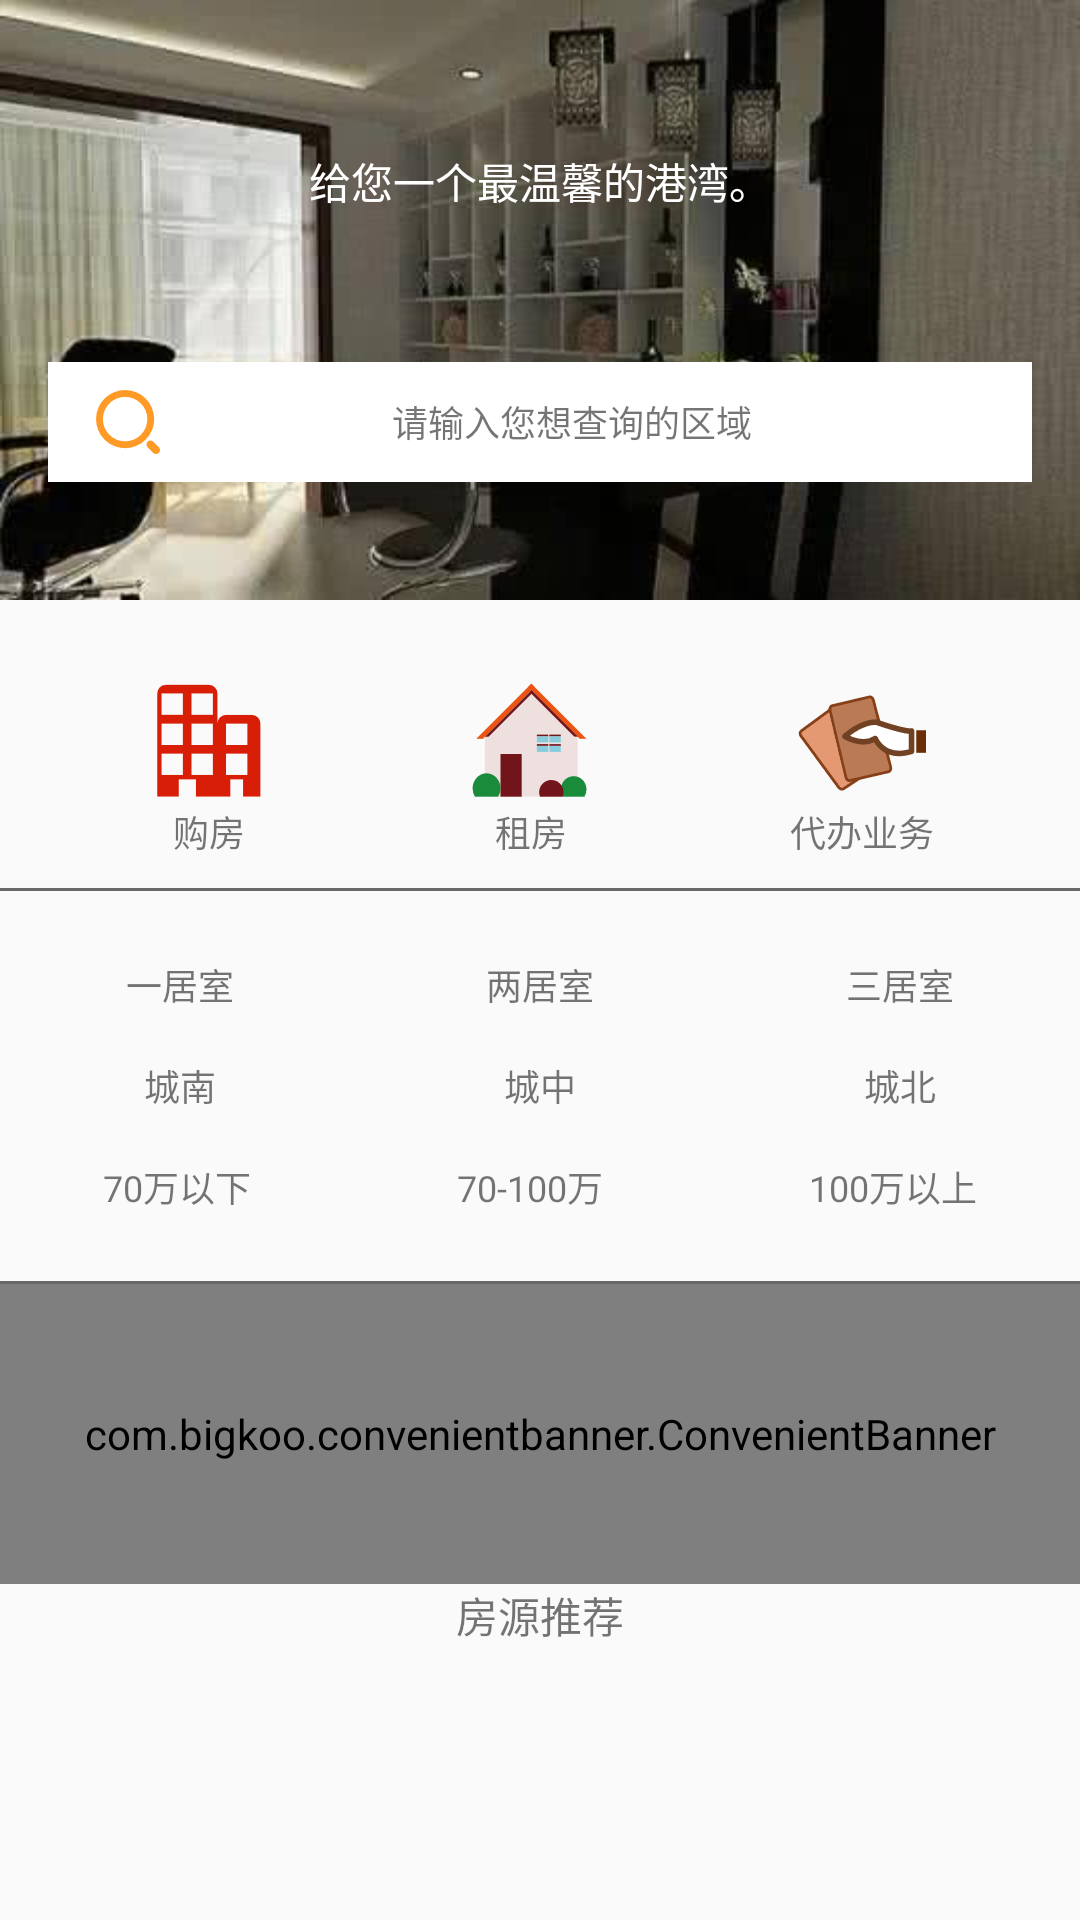

Point at icon controls on the screen. Image size 1080px x 1920px, points as (x,y).
search: (128,422)
